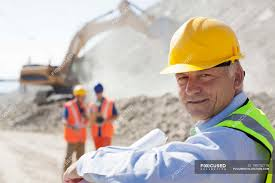Person_wearing_helmet: (156, 12, 244, 89)
